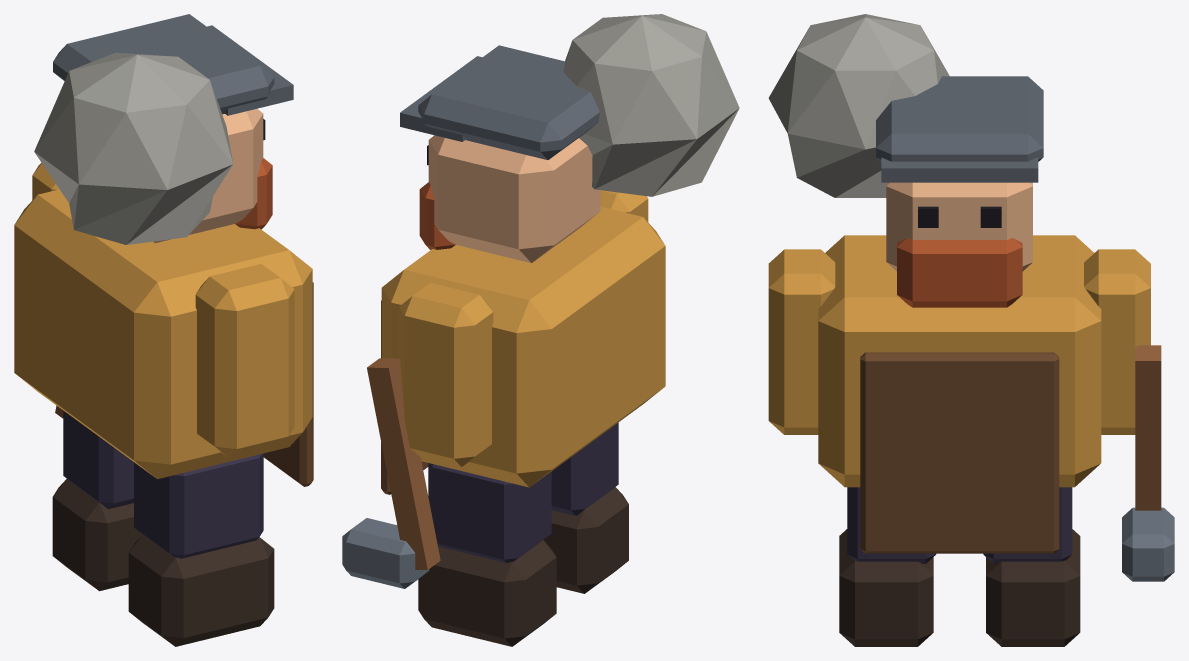
Rendered from mason.glb.
3 views of the same model, side by side, from view 1: azimuth 30°, elevation 25°; view 2: azimuth 150°, elevation 25°; view 3: azimuth 270°, elevation 25° (orthographic). The views are drawn at different scales.
Parts seen in each view (by area): view 1: mason; view 2: mason; view 3: mason.
Boxes of the visible parts, box(x1,y1,x2,y2) form: mason: box(14, 14, 313, 646); mason: box(342, 14, 739, 646); mason: box(768, 14, 1174, 646).
Size of the model in its own units: 0.5462 by 1.21 by 0.7752.
